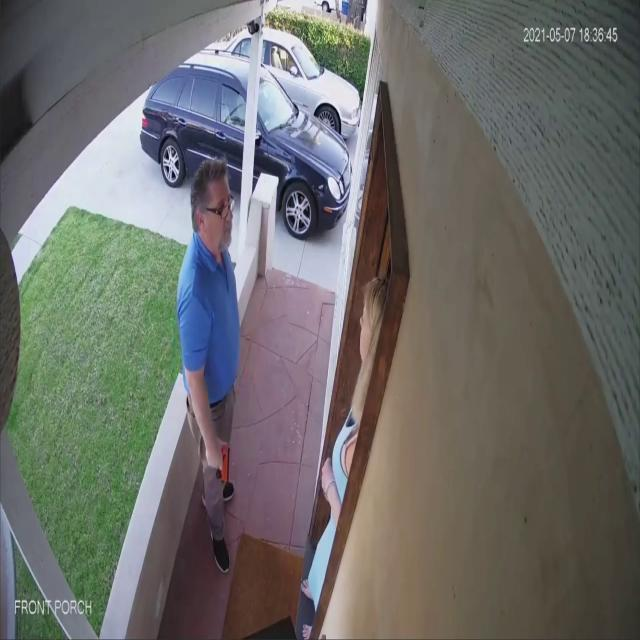gun: (215, 444, 232, 484)
